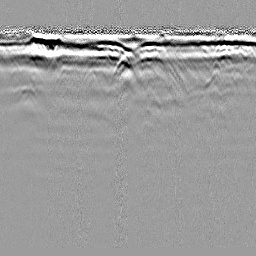cavity: (110, 50, 140, 82)
